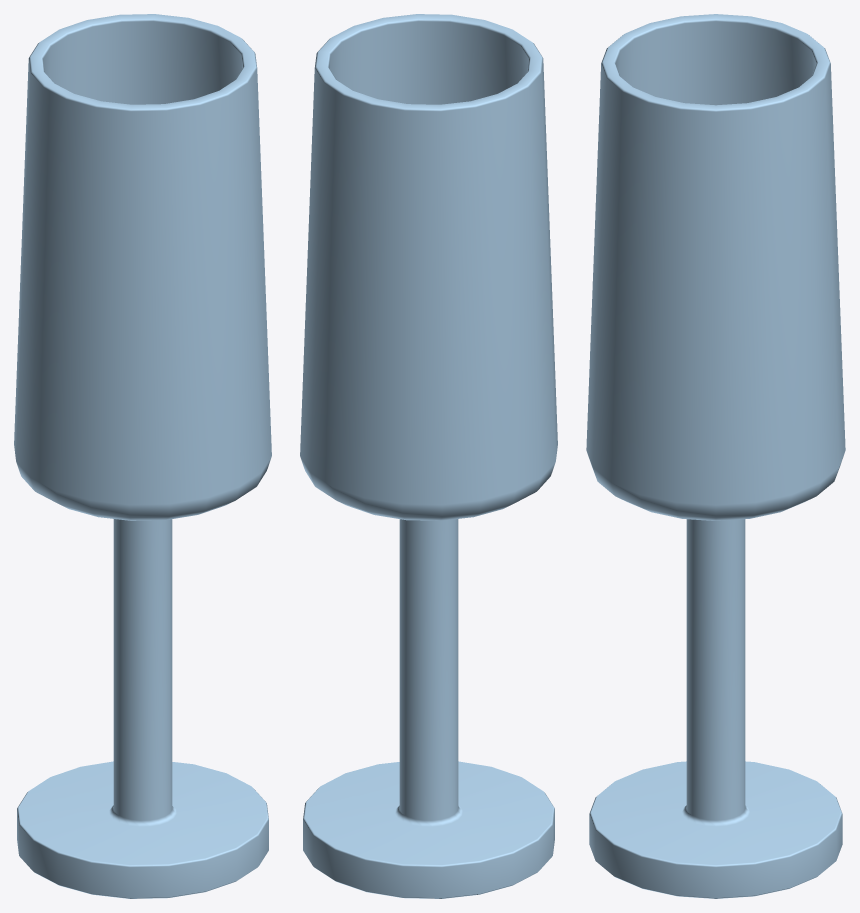
Rendered from Isl_10_Glass_1.fbx.
The picture shows the model from 3 angles, left to right: view 1: azimuth 30°, elevation 25°; view 2: azimuth 150°, elevation 25°; view 3: azimuth 270°, elevation 25°; orthographic projection.
Visible parts, largest first — view 1: Isl_10_Glass_1; view 2: Isl_10_Glass_1; view 3: Isl_10_Glass_1.
Part boxes in pixels (x1,y1,x2,y2): Isl_10_Glass_1: (14,14,271,898); Isl_10_Glass_1: (300,14,557,898); Isl_10_Glass_1: (586,14,845,898).
Bounding box in the file's own units: 9.51 × 31.77 × 9.51.
